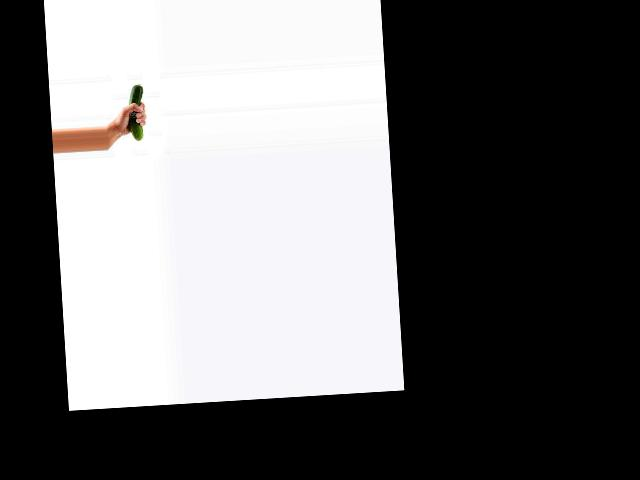cucumber: (126, 84, 146, 140)
